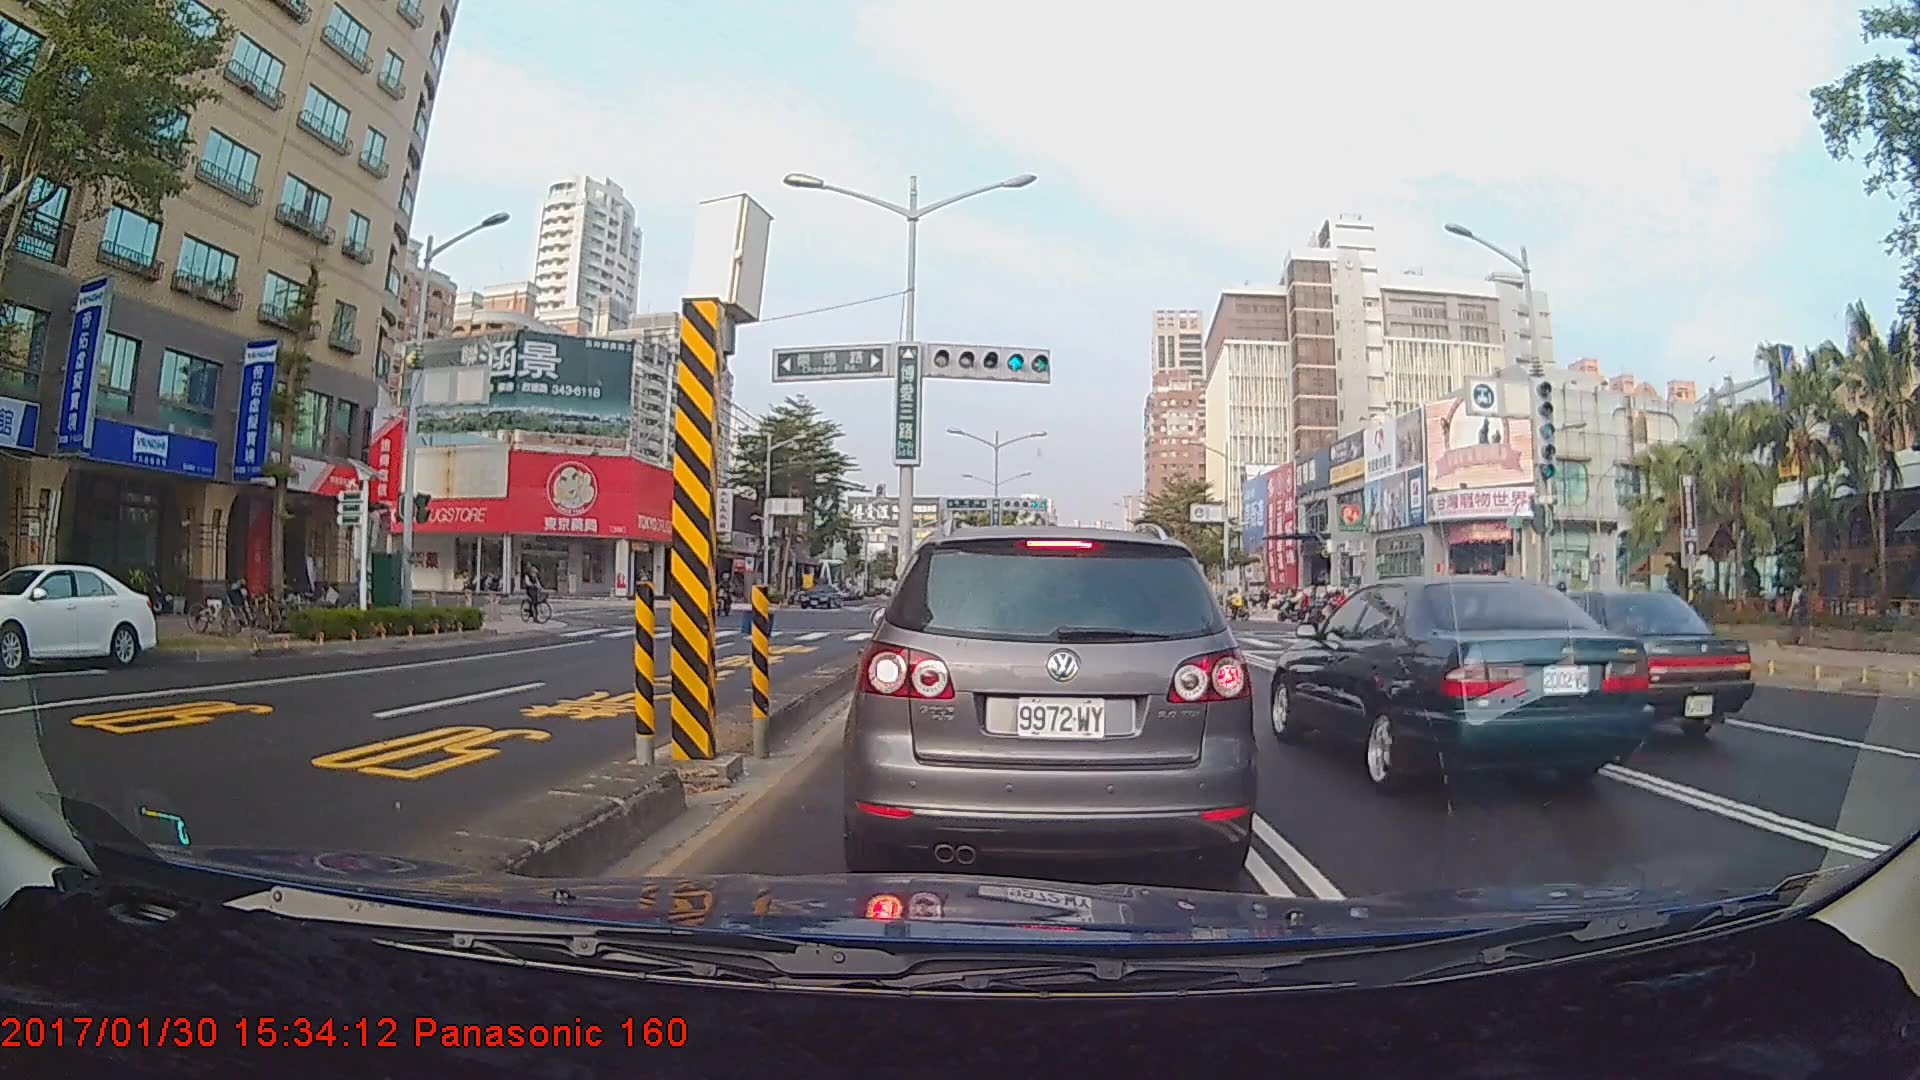pedestrian: (1785, 578, 1812, 645)
rider: (518, 559, 561, 629)
vehicle: (858, 523, 1246, 875), (1268, 572, 1656, 799), (1466, 586, 1758, 746), (0, 561, 161, 671), (799, 586, 840, 610)
